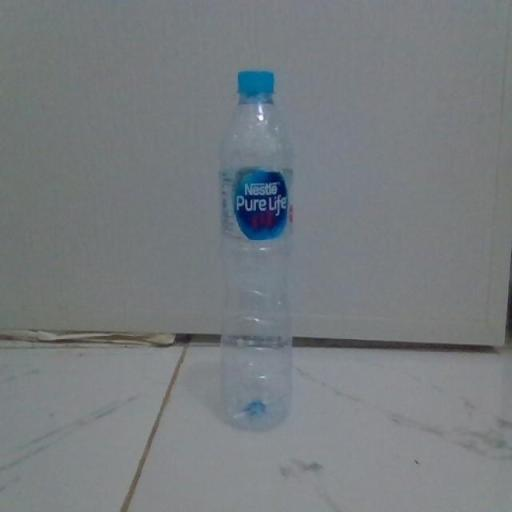plastic: (218, 68, 294, 435)
